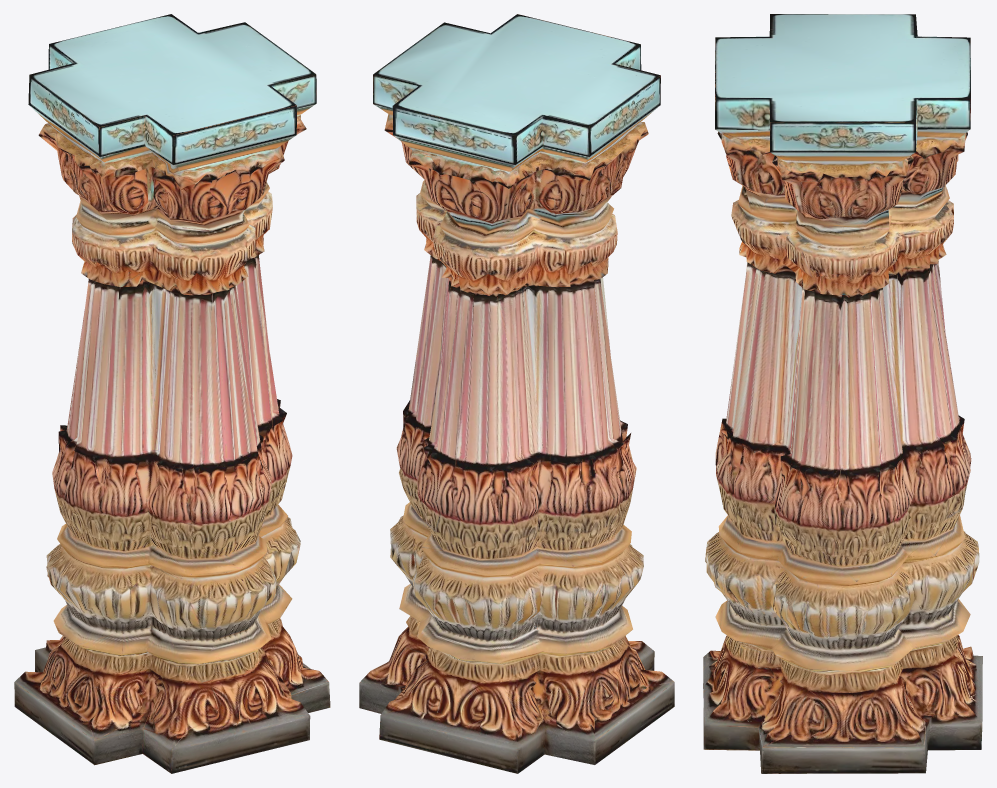
Rendered from Ornate_Turquoise_Pill_c.glb.
3 renders of one model, left to right at view 1: azimuth 30°, elevation 25°; view 2: azimuth 150°, elevation 25°; view 3: azimuth 270°, elevation 25°, orthographic. The views are drawn at different scales.
Visible parts, largest first — view 1: Mesh1.0; view 2: Mesh1.0; view 3: Mesh1.0.
Boxes of the visible parts, left/top/right/bottom form: Mesh1.0: left=14, top=14, right=330, bottom=773; Mesh1.0: left=359, top=14, right=674, bottom=773; Mesh1.0: left=703, top=14, right=982, bottom=773.
Size of the model in its own units: 0.7415 by 1.9 by 0.7437.
Materials: 1 (1 with a texture image).
